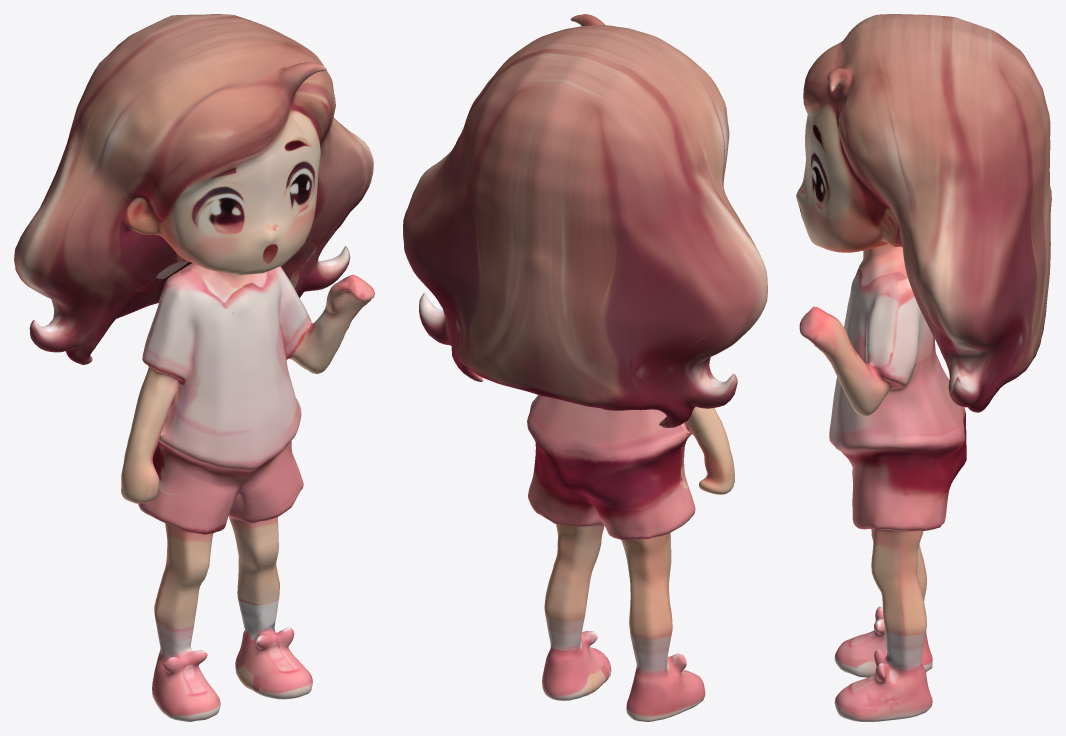
The model's file is base_basic_pbr2.glb.
The picture shows the model from 3 angles, left to right: view 1: azimuth 30°, elevation 25°; view 2: azimuth 150°, elevation 25°; view 3: azimuth 270°, elevation 25°; orthographic projection.
Parts seen in each view (by area): view 1: model; view 2: model; view 3: model.
Boxes of the visible parts, left/top/right/bottom form: model: left=14, top=14, right=374, bottom=721; model: left=403, top=14, right=767, bottom=721; model: left=796, top=14, right=1051, bottom=721.
Bounding box in the file's own units: 1.06 × 1.9 × 0.6671.
1 material, 1 textured.
